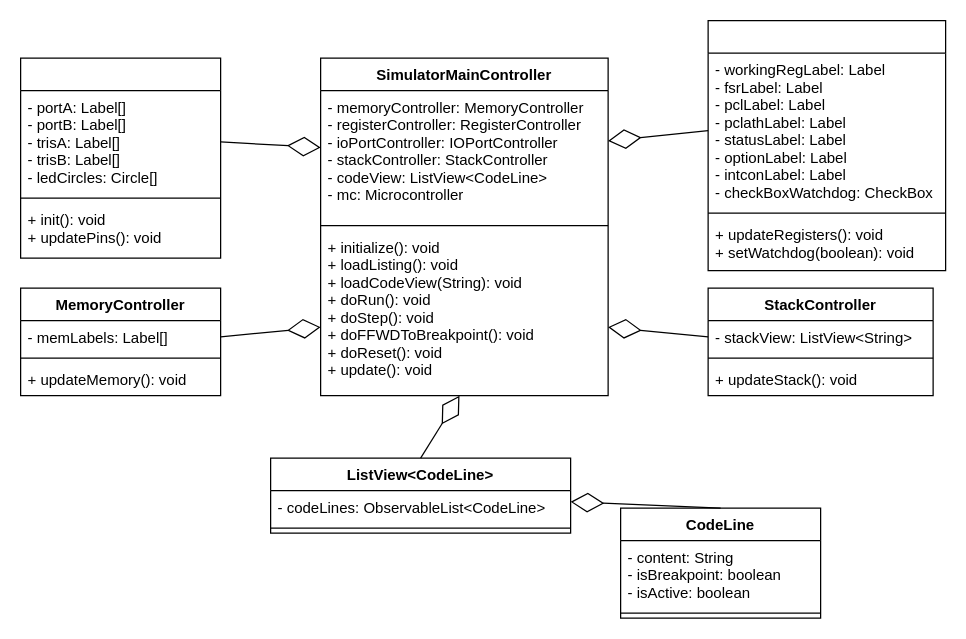
This 966x639 diagram has some shape labels left out. Here are the shapes that lost their labels. From the top down, the box of each, then its label:
(19, 57, 221, 258): IOPortController
(707, 19, 946, 271): RegisterController
